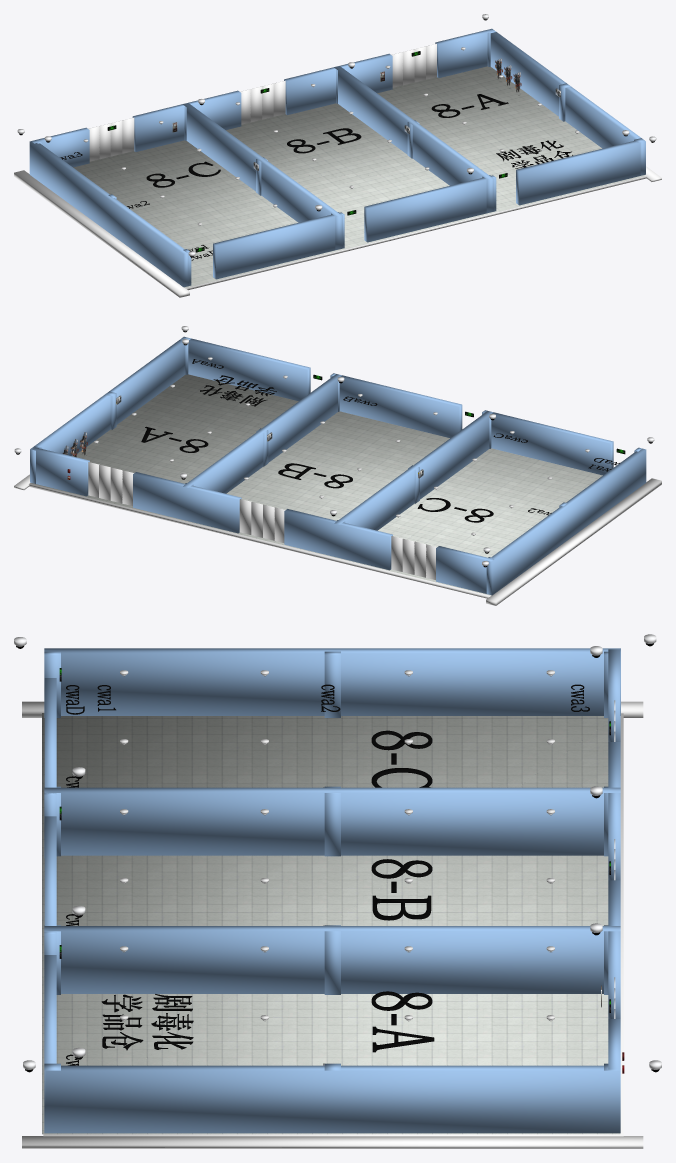
The model's file is cwa_1f_mini.gltf.
3 views of the same model, one above another, from view 1: azimuth 30°, elevation 25°; view 2: azimuth 150°, elevation 25°; view 3: azimuth 270°, elevation 25° (orthographic). The views are drawn at different scales.
Parts seen in each view (by area): view 1: cwa_dimian, cwa_qiang_6, cwa_qiang, cwa_qiang_1, cwa_qiang_5, cwa_qiang_4, cwa_qiang_3, cwa_qiang_2, cwa_qiang_11, cwa_qiang_10, cwa_waiguan_1_1, cwa_qiang_13 (+9 smaller); view 2: cwa_dimian, cwa_qiang_6, cwa_qiang, cwa_qiang_1, cwa_qiang_5, cwa_qiang_3, cwa_qiang_2, cwa_qiang_4, cwa_qiang_10, cwa_qiang_11, cwa_waiguan_1_1, cwa_waiguan_1 (+8 smaller); view 3: cwa_dimian, cwa_qiang_5, cwa_qiang, cwa_qiang_1, cwa_qiang_6, cwa_waiguan_1_2, cwa_waiguan_1, judu, cwa_qiang_11, cwa_qiang_10, 8_B, cwa_qiang_2 (+9 smaller).
Boxes of the visible parts, x1,y1,x2,y2 form: cwa_dimian: (73, 66, 645, 288); cwa_qiang_6: (29, 141, 189, 287); cwa_qiang: (182, 103, 341, 222); cwa_qiang_1: (334, 66, 492, 185); cwa_qiang_5: (490, 32, 640, 148); cwa_qiang_4: (516, 140, 640, 205); cwa_qiang_3: (364, 177, 487, 242); cwa_qiang_2: (213, 214, 335, 279); cwa_qiang_11: (284, 53, 392, 115); cwa_qiang_10: (132, 90, 241, 151); cwa_waiguan_1_1: (14, 170, 189, 297); cwa_qiang_13: (435, 29, 493, 77); cwa_dimian: (31, 374, 602, 595); cwa_qiang_6: (486, 448, 646, 595); cwa_qiang: (334, 411, 493, 530); cwa_qiang_1: (183, 374, 341, 493); cwa_qiang_5: (30, 340, 185, 483); cwa_qiang_3: (339, 375, 462, 438); cwa_qiang_2: (491, 412, 613, 475); cwa_qiang_4: (188, 338, 310, 401); cwa_qiang_10: (284, 509, 392, 570); cwa_qiang_11: (133, 472, 241, 533); cwa_waiguan_1_1: (486, 478, 661, 605); cwa_waiguan_1: (29, 483, 490, 598); cwa_dimian: (42, 713, 620, 1134); cwa_qiang_5: (45, 1065, 620, 1133); cwa_qiang: (44, 787, 620, 855); cwa_qiang_1: (44, 926, 620, 993); cwa_qiang_6: (44, 648, 620, 715); cwa_waiguan_1_2: (22, 1136, 643, 1148); cwa_waiguan_1: (43, 713, 623, 1136); judu: (101, 994, 193, 1050); cwa_qiang_11: (608, 880, 620, 1018); cwa_qiang_10: (608, 742, 620, 880); 8_B: (371, 859, 432, 920); cwa_qiang_2: (44, 678, 56, 787).
Bounding box in the file's own units: 154 × 13.07 × 95.96.
13 materials, 8 textured.
